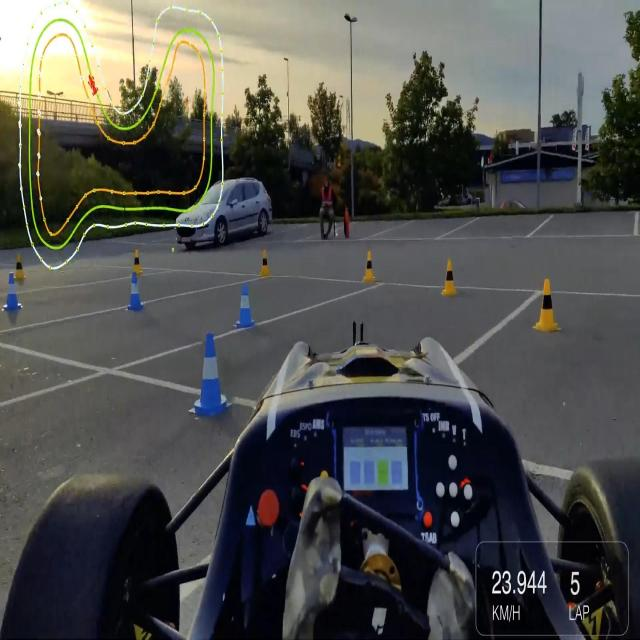blue_cone: (191, 328, 232, 419), (235, 283, 257, 329), (128, 272, 144, 312), (4, 273, 20, 313)
yellow_cone: (534, 276, 558, 332), (443, 256, 457, 296), (362, 249, 377, 283), (15, 251, 27, 283), (259, 248, 271, 279), (132, 248, 142, 272)
